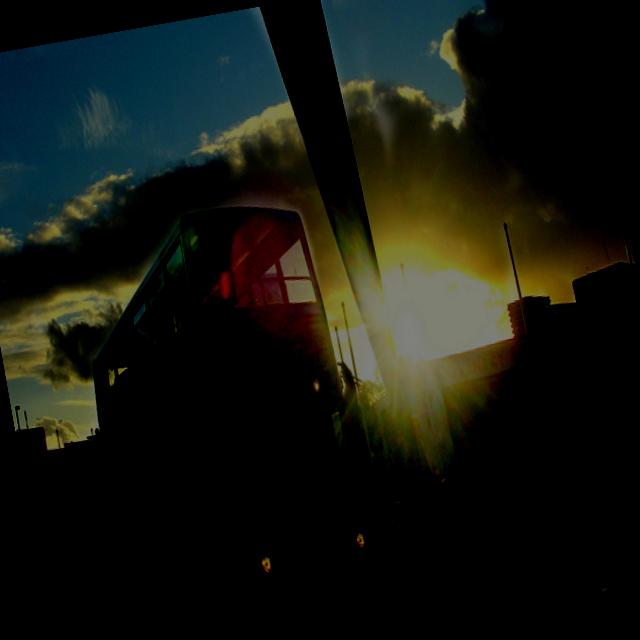Vehicle: (59, 185, 390, 640)
